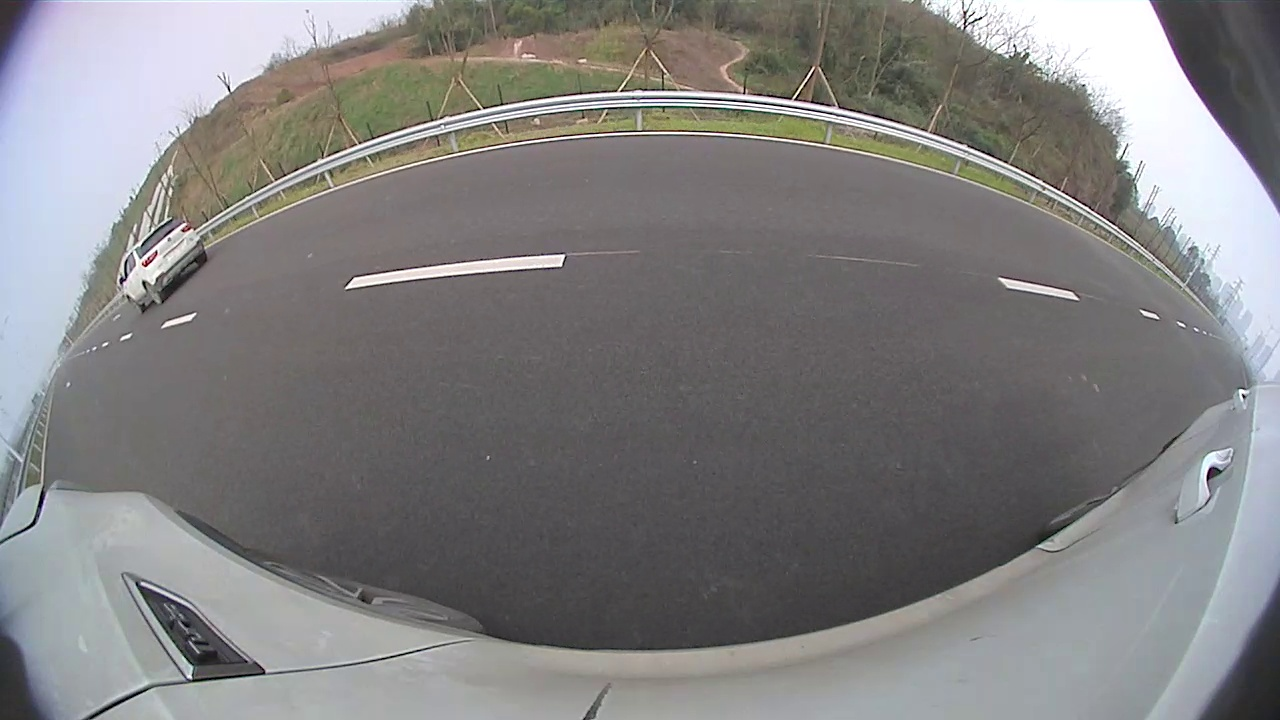car: (117, 216, 209, 314)
rear: (142, 280, 164, 306)
